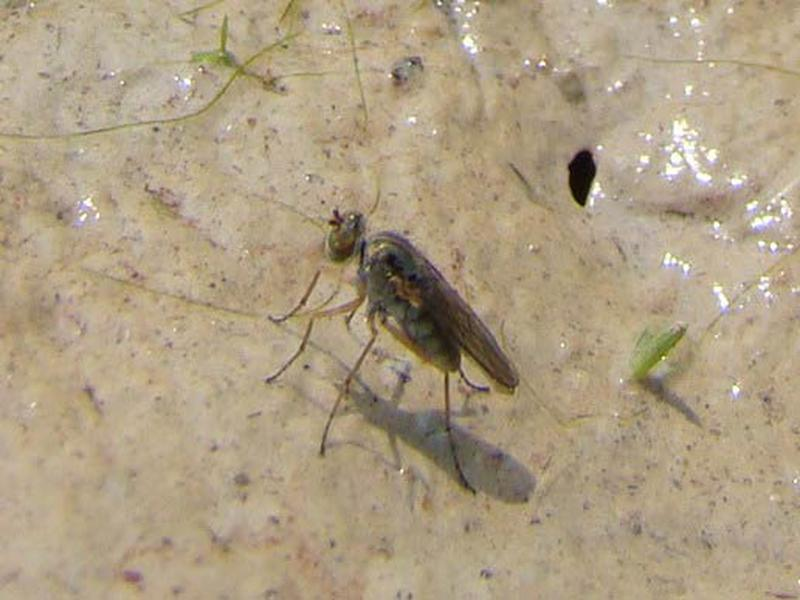Whorl_maggot: (267, 204, 527, 444)
